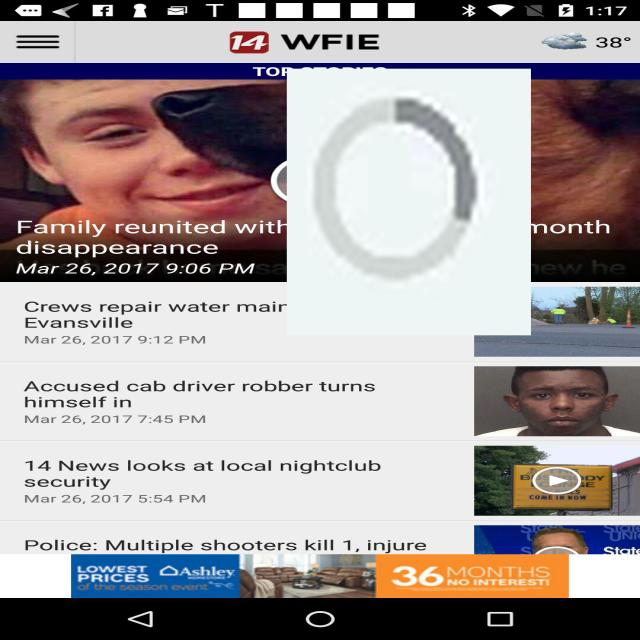misdirection: (287, 69, 531, 335)
